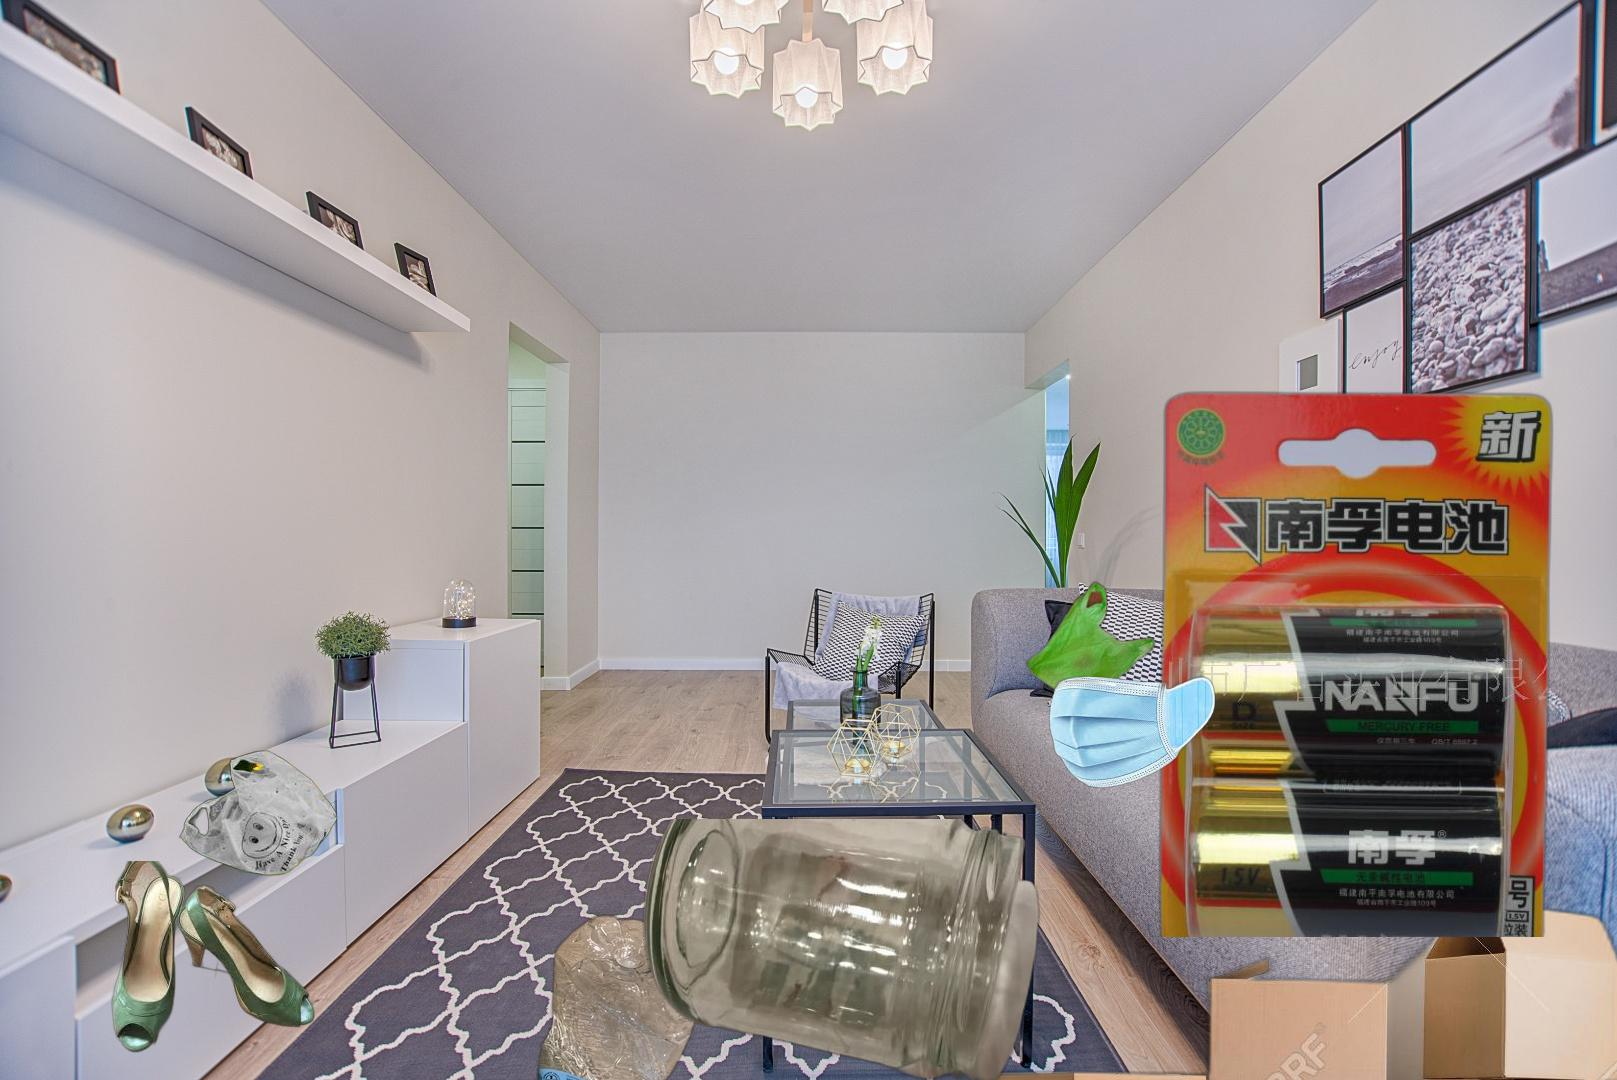battery: (1156, 388, 1557, 937)
glass: (639, 818, 1043, 1080)
plastic-bag: (1022, 580, 1233, 794), (176, 749, 340, 877)
plastic-bottles: (514, 910, 699, 1080)
shoes: (108, 861, 317, 1055)
trash: (1046, 594, 1266, 817)
trashbox-cardboard: (934, 896, 1617, 1080)
